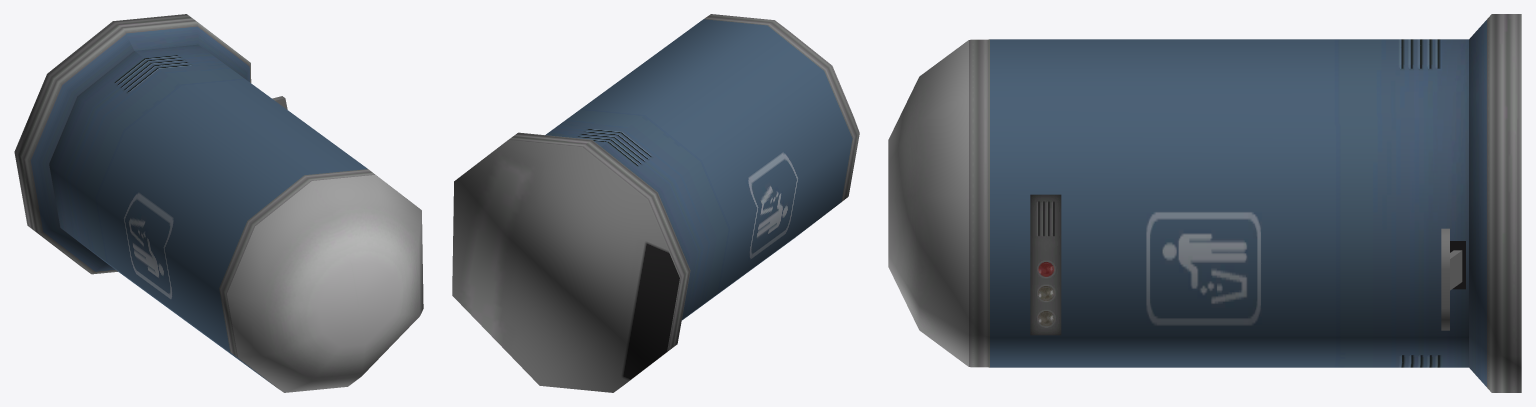
File: nt_trash_compactor_blue_LOD2.obj
The picture shows the model from 3 angles, left to right: view 1: azimuth 30°, elevation 25°; view 2: azimuth 150°, elevation 25°; view 3: azimuth 270°, elevation 25°; orthographic projection. The views are drawn at different scales.
Parts seen in each view (by area): view 1: mtl_nt_trash_compactor; view 2: mtl_nt_trash_compactor; view 3: mtl_nt_trash_compactor.
Boxes of the visible parts, box(x1,y1,x2,y2) form: mtl_nt_trash_compactor: box(14, 14, 423, 392); mtl_nt_trash_compactor: box(452, 14, 859, 392); mtl_nt_trash_compactor: box(888, 14, 1521, 392).
Bounding box in the file's own units: 59.9 × 57.85 × 94.8.
